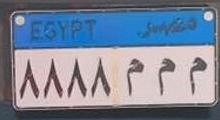8: (43, 55, 66, 100), (18, 56, 40, 102), (66, 56, 88, 100), (89, 57, 112, 99)
meem: (154, 56, 178, 98), (185, 55, 208, 98), (125, 56, 147, 99)
